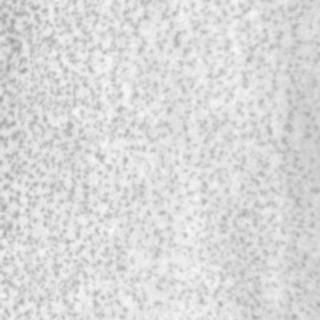pitted_surface: (2, 6, 310, 310)
